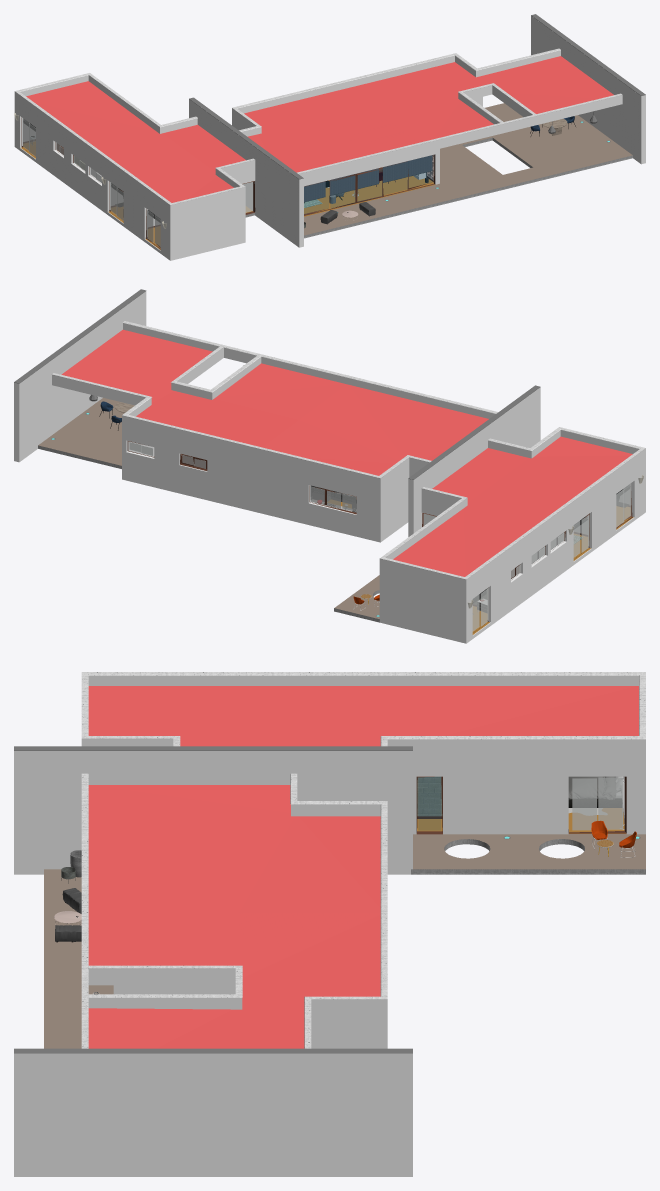
The model's file is casa-de-campo--001-blo-a-arq-var-v1_web_comprimido.ra.glb.
The picture shows the model from 3 angles, top to bottom: view 1: azimuth 30°, elevation 25°; view 2: azimuth 150°, elevation 25°; view 3: azimuth 270°, elevation 25°; orthographic projection. The views are drawn at different scales.
Visible parts, largest first — view 1: Basic_Roof_-_BIM_LOADING-Generic_-_125mm_292929, Basic_Wall_-_BIM_LOADING-Muro_01_272126, Floor_-_BIM_LOADING-Piso_02_275638, Basic_Wall_-_BIM_LOADING-Muro_Enchapado_01_272040, Basic_Wall_-_BIM_LOADING-Pretil_293935_·_1, BIM_LOADING-Fixed_-_BIM_LOADING-HABITACIÓN_1_-_0915_x_2100_4, BIM_LOADING-Fixed_-_BIM_LOADING-VESTIBULO_250_x_1830mm_28074, Floor_-_BIM_LOADING-Piso_01_354884, BIM_LOADING-Tela_de_Projeção_Elétrica_106_-_BIM_LOADING-Perc, Basic_Wall_-_BIM_LOADING-Muro_Enchapado_01_272040_·_1; view 2: Basic_Wall_-_BIM_LOADING-Muro_01_272126, Basic_Roof_-_BIM_LOADING-Generic_-_125mm_292929, Basic_Wall_-_BIM_LOADING-Muro_Enchapado_01_272040, Basic_Wall_-_BIM_LOADING-Pretil_293935_·_1, Floor_-_BIM_LOADING-Piso_02_275638, BIM_LOADING-Fixed_-_BIM_LOADING-VESTIBULO_250_x_1830mm_28074, Basic_Wall_-_BIM_LOADING-Muro_Enchapado_01_272040_·_1, Floor_-_BIM_LOADING-Piso_01_354884, BIM_LOADING-4500_Kitchen_Island_327086; view 3: Basic_Roof_-_BIM_LOADING-Generic_-_125mm_292929, Basic_Wall_-_BIM_LOADING-Muro_Enchapado_01_272040, Basic_Wall_-_BIM_LOADING-Muro_01_272126, Floor_-_BIM_LOADING-Piso_02_275638, Basic_Wall_-_BIM_LOADING-Pretil_293935_·_1, Basic_Wall_-_BIM_LOADING-Muro_Enchapado_01_272040_·_1, BIM_LOADING-Fixed_-_BIM_LOADING-VESTIBULO_250_x_1830mm_28074, Floor_-_BIM_LOADING-Piso_01_354884, BIM_LOADING-Fixed_-_BIM_LOADING-HABITACIÓN_1_-_0915_x_2100_4, BIM_LOADING-edredrom_MENOR_703690, Basic_Wall_-_BIM_LOADING-Generic_-_140mm_Mamposteria_01_2712, BIM_LOADING-HAB100_US_-_BIM_LOADING-HAB100_702892.
Boxes of the visible parts, left/top/right/bottom form: Basic_Roof_-_BIM_LOADING-Generic_-_125mm_292929: left=26, top=56, right=613, bottom=202; Basic_Wall_-_BIM_LOADING-Muro_01_272126: left=14, top=50, right=622, bottom=260; Floor_-_BIM_LOADING-Piso_02_275638: left=245, top=103, right=632, bottom=238; Basic_Wall_-_BIM_LOADING-Muro_Enchapado_01_272040: left=189, top=15, right=645, bottom=247; Basic_Wall_-_BIM_LOADING-Pretil_293935_·_1: left=14, top=48, right=622, bottom=205; BIM_LOADING-Fixed_-_BIM_LOADING-HABITACIÓN_1_-_0915_x_2100_4: left=304, top=156, right=431, bottom=213; BIM_LOADING-Fixed_-_BIM_LOADING-VESTIBULO_250_x_1830mm_28074: left=21, top=117, right=434, bottom=249; Floor_-_BIM_LOADING-Piso_01_354884: left=21, top=141, right=434, bottom=249; BIM_LOADING-Tela_de_Projeção_Elétrica_106_-_BIM_LOADING-Perc: left=304, top=155, right=432, bottom=202; Basic_Wall_-_BIM_LOADING-Muro_Enchapado_01_272040_·_1: left=189, top=14, right=645, bottom=179; Basic_Wall_-_BIM_LOADING-Muro_01_272126: left=52, top=323, right=645, bottom=643; Basic_Roof_-_BIM_LOADING-Generic_-_125mm_292929: left=61, top=329, right=632, bottom=576; Basic_Wall_-_BIM_LOADING-Muro_Enchapado_01_272040: left=14, top=291, right=540, bottom=536; Basic_Wall_-_BIM_LOADING-Pretil_293935_·_1: left=52, top=321, right=645, bottom=579; Floor_-_BIM_LOADING-Piso_02_275638: left=38, top=397, right=379, bottom=622; BIM_LOADING-Fixed_-_BIM_LOADING-VESTIBULO_250_x_1830mm_28074: left=127, top=441, right=632, bottom=631; Basic_Wall_-_BIM_LOADING-Muro_Enchapado_01_272040_·_1: left=14, top=289, right=540, bottom=479; Floor_-_BIM_LOADING-Piso_01_354884: left=327, top=500, right=633, bottom=634; BIM_LOADING-4500_Kitchen_Island_327086: left=310, top=485, right=356, bottom=511; Basic_Roof_-_BIM_LOADING-Generic_-_125mm_292929: left=88, top=686, right=638, bottom=1048; Basic_Wall_-_BIM_LOADING-Muro_Enchapado_01_272040: left=14, top=751, right=412, bottom=1176; Basic_Wall_-_BIM_LOADING-Muro_01_272126: left=81, top=675, right=645, bottom=1048; Floor_-_BIM_LOADING-Piso_02_275638: left=44, top=834, right=645, bottom=1048; Basic_Wall_-_BIM_LOADING-Pretil_293935_·_1: left=81, top=672, right=645, bottom=1048; Basic_Wall_-_BIM_LOADING-Muro_Enchapado_01_272040_·_1: left=14, top=746, right=412, bottom=1053; BIM_LOADING-Fixed_-_BIM_LOADING-VESTIBULO_250_x_1830mm_28074: left=416, top=776, right=626, bottom=834; Floor_-_BIM_LOADING-Piso_01_354884: left=417, top=808, right=626, bottom=833; BIM_LOADING-Fixed_-_BIM_LOADING-HABITACIÓN_1_-_0915_x_2100_4: left=419, top=777, right=440, bottom=829; BIM_LOADING-edredrom_MENOR_703690: left=568, top=776, right=616, bottom=799; Basic_Wall_-_BIM_LOADING-Generic_-_140mm_Mamposteria_01_2712: left=417, top=776, right=442, bottom=816; BIM_LOADING-HAB100_US_-_BIM_LOADING-HAB100_702892: left=55, top=888, right=81, bottom=942.
Size of the model in its own units: 33.17 by 4.72 by 21.8.
170 materials, 32 textured.
